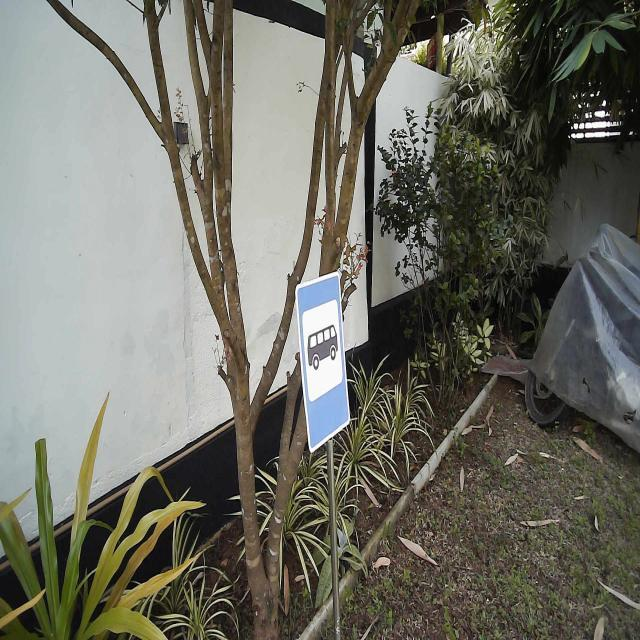bus_stop: (295, 269, 352, 456)
